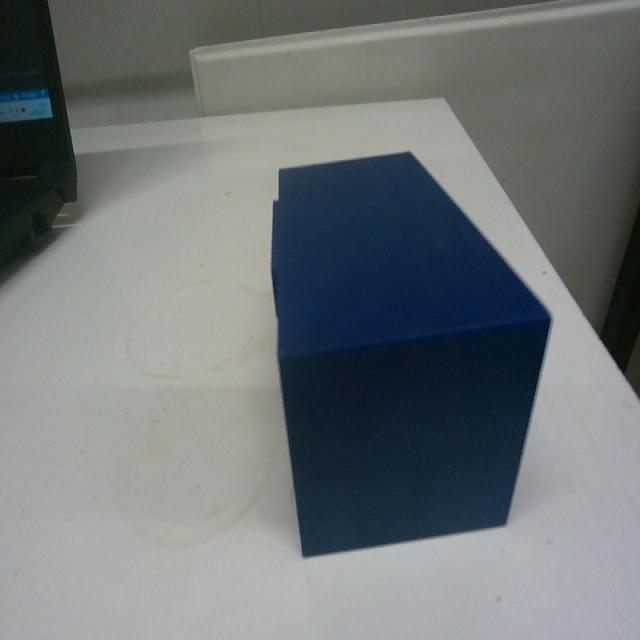Blue Cuboid: (267, 146, 553, 558)
